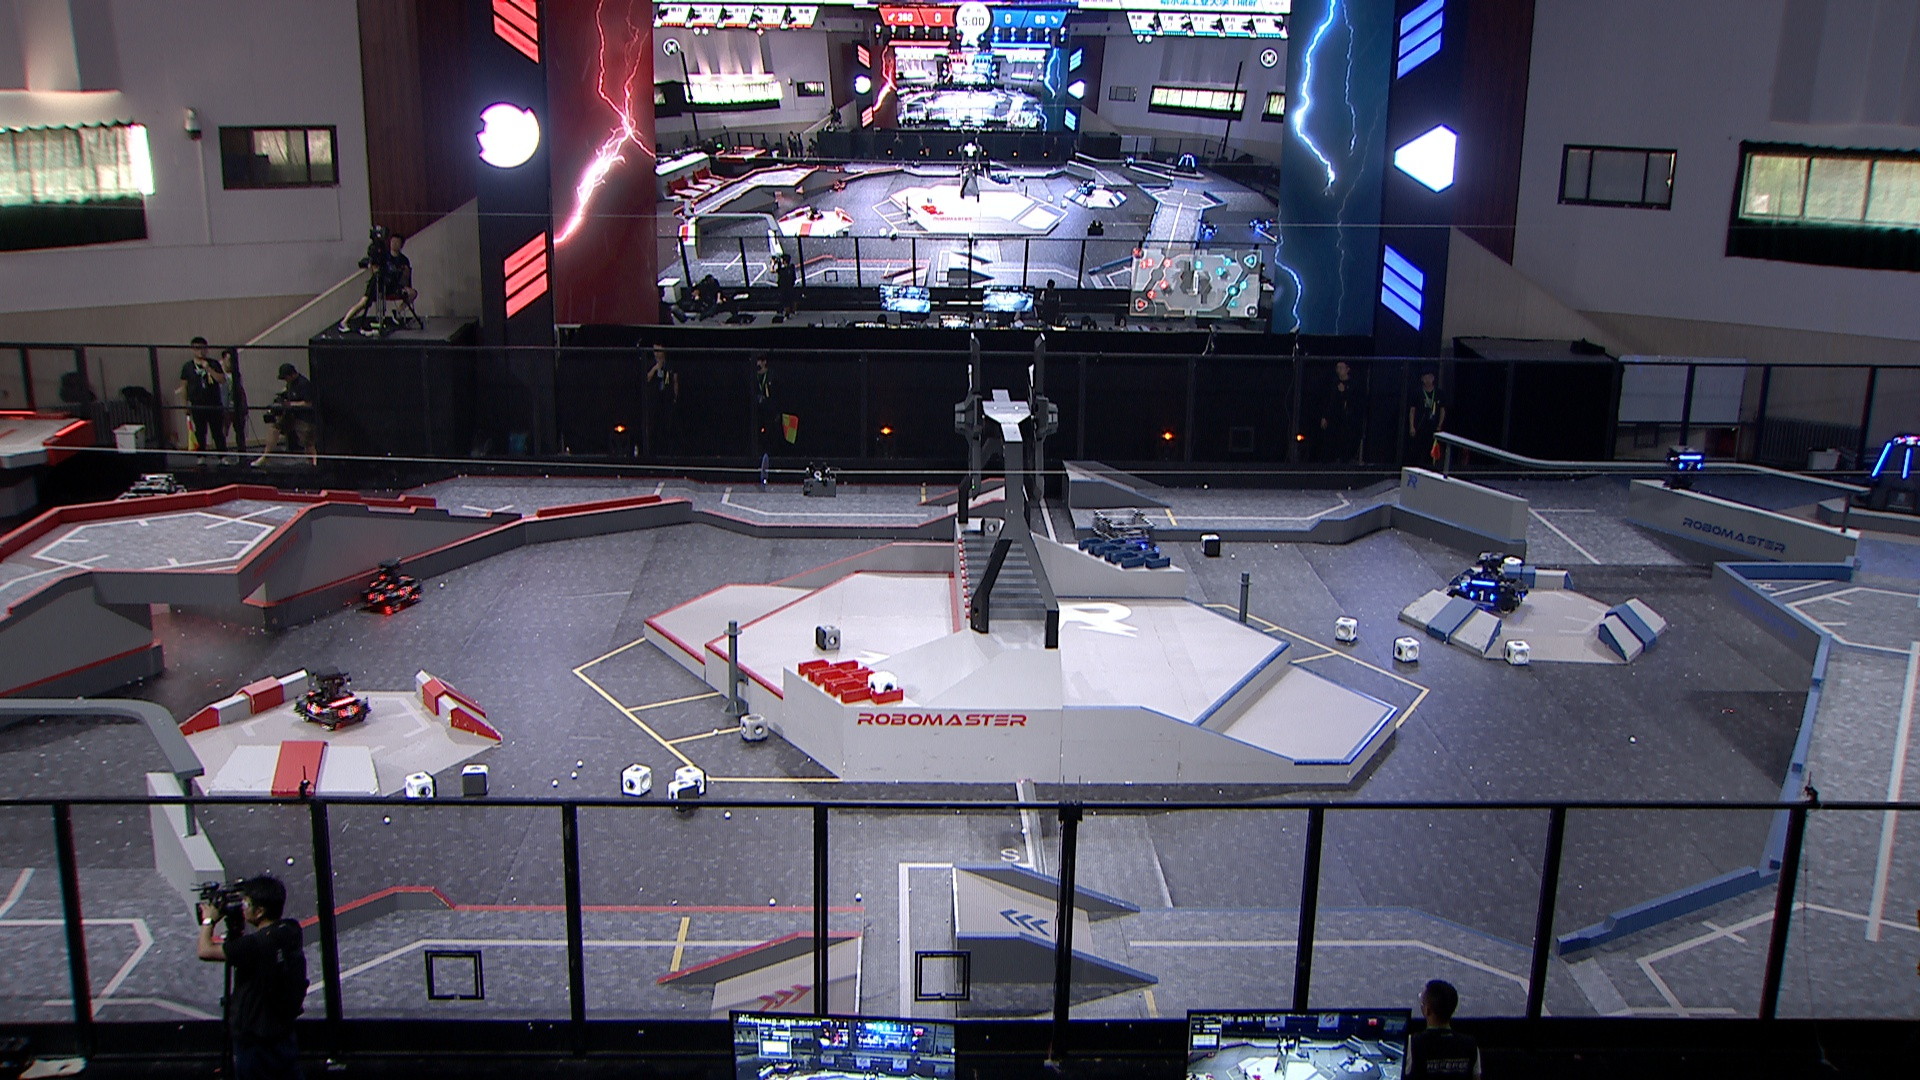armor: (1869, 440, 1894, 479), (1466, 589, 1495, 603), (1902, 448, 1913, 480), (1676, 460, 1704, 473), (338, 703, 359, 719), (301, 703, 320, 716), (367, 580, 394, 589), (367, 589, 385, 603), (396, 585, 413, 597), (1514, 589, 1524, 604)
base: (1847, 434, 1920, 516)
car: (115, 472, 196, 547), (1447, 550, 1532, 618), (295, 665, 371, 732), (1091, 506, 1159, 574), (352, 556, 425, 615)
ignore: (1172, 154, 1199, 175), (1245, 216, 1269, 233), (1077, 179, 1097, 199), (1199, 219, 1218, 237), (1894, 436, 1920, 448), (994, 167, 1011, 185), (804, 204, 823, 220), (829, 177, 847, 193)
watcher: (1662, 446, 1705, 491)
